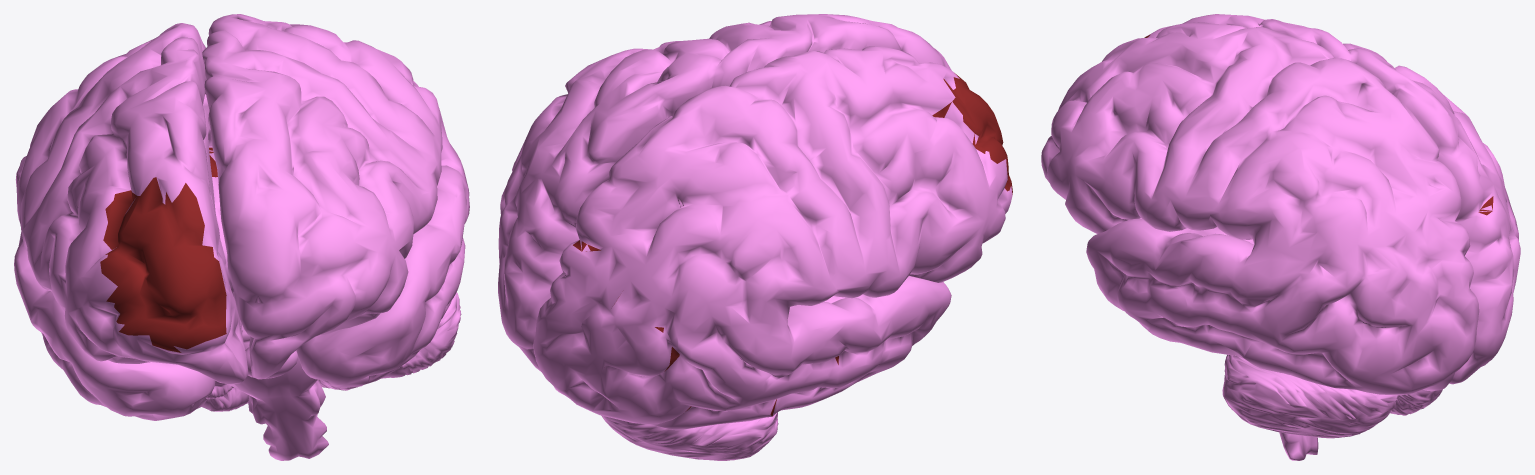
The model's file is brain-simple-mesh1.fbx.
3 views of the same model, side by side, from view 1: azimuth 30°, elevation 25°; view 2: azimuth 150°, elevation 25°; view 3: azimuth 270°, elevation 25° (orthographic). The views are drawn at different scales.
Visible parts, largest first — view 1: default; view 2: default; view 3: default.
Part boxes in pixels (left/top/right/bottom): default: left=14, top=14, right=469, bottom=460; default: left=498, top=14, right=1012, bottom=460; default: left=1041, top=14, right=1520, bottom=460.
Bounding box in the file's own units: 5.78 × 5.6 × 6.27.
